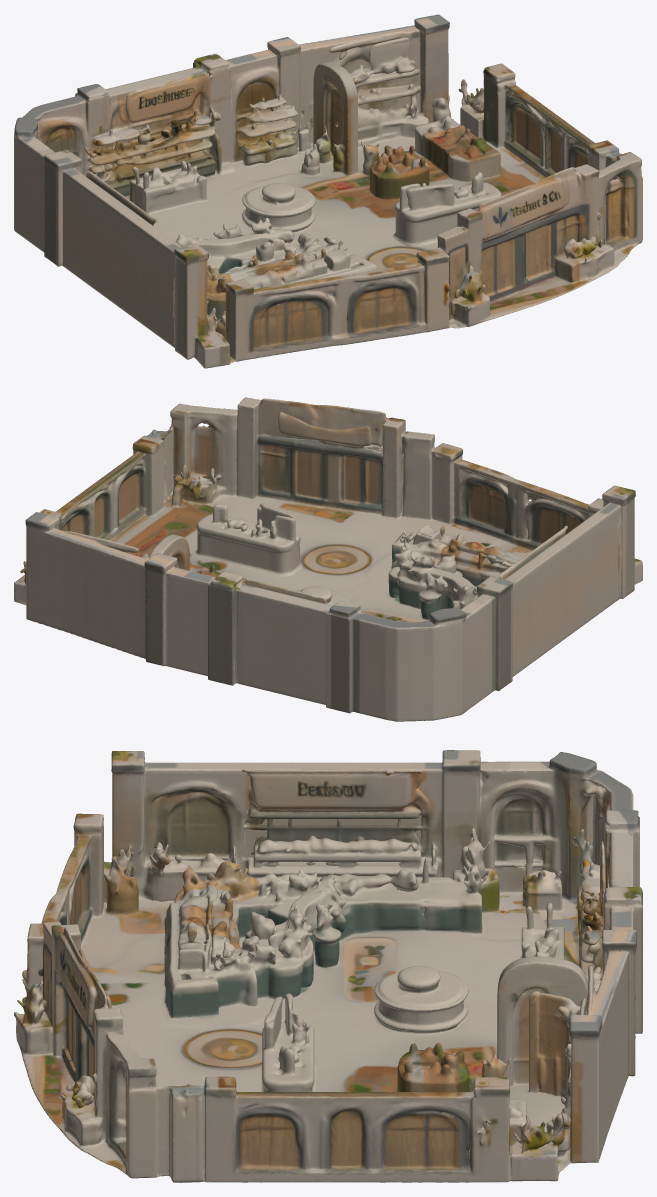
Rendered from Verdant_WholeStore_H25_Raw.glb.
The picture shows the model from 3 angles, top to bottom: view 1: azimuth 30°, elevation 25°; view 2: azimuth 150°, elevation 25°; view 3: azimuth 270°, elevation 25°; orthographic projection. The views are drawn at different scales.
Visible parts, largest first — view 1: tripo_node_e695d05f-ec3d-483a-8edd-680db40d2279; view 2: tripo_node_e695d05f-ec3d-483a-8edd-680db40d2279; view 3: tripo_node_e695d05f-ec3d-483a-8edd-680db40d2279.
Part boxes in pixels (bbox=[...]): tripo_node_e695d05f-ec3d-483a-8edd-680db40d2279: bbox=[14, 14, 642, 368]; tripo_node_e695d05f-ec3d-483a-8edd-680db40d2279: bbox=[14, 397, 642, 721]; tripo_node_e695d05f-ec3d-483a-8edd-680db40d2279: bbox=[14, 750, 642, 1182].
Size of the model in its own units: 1 by 0.2093 by 0.8801.
Materials: 1 (1 with a texture image).
